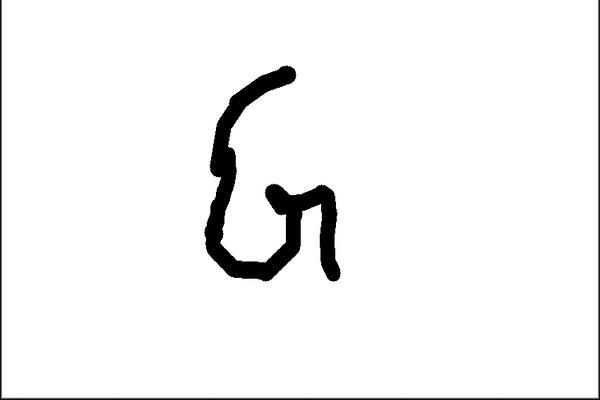G: (197, 61, 348, 285)
